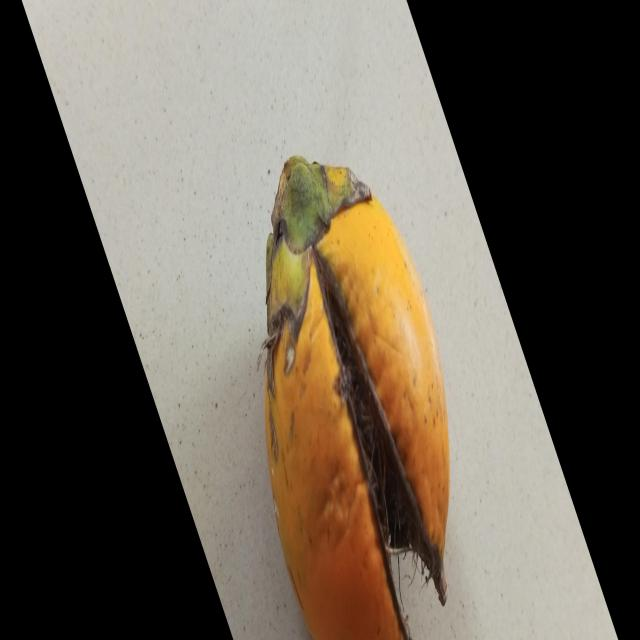damaged: (264, 158, 451, 640)
